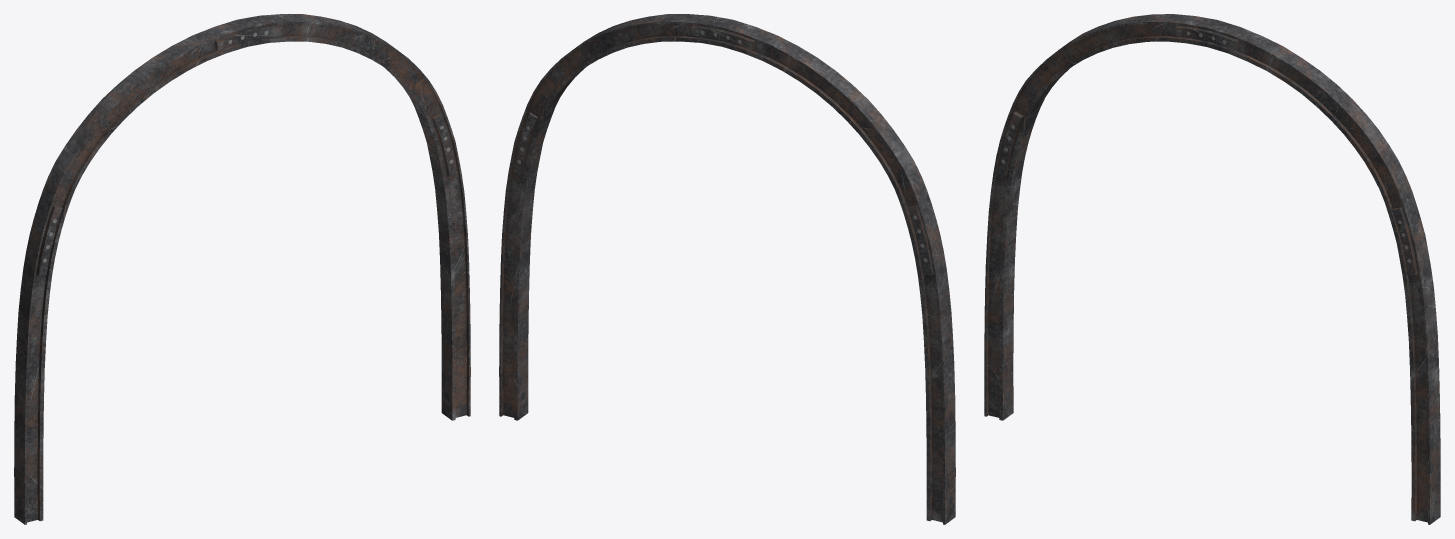
The model's file is SteelSupportAA.glb.
3 views of the same model, side by side, from view 1: azimuth 30°, elevation 25°; view 2: azimuth 150°, elevation 25°; view 3: azimuth 330°, elevation 25° (orthographic).
Visible parts, largest first — view 1: SteelSupportAA; view 2: SteelSupportAA; view 3: SteelSupportAA.
Part boxes in pixels (x1,y1,x2,y2): SteelSupportAA: [14, 14, 470, 524]; SteelSupportAA: [499, 14, 955, 524]; SteelSupportAA: [984, 14, 1440, 524].
Bounding box in the file's own units: 2.71 × 2.57 × 0.1246.
Materials: 1 (1 with a texture image).
